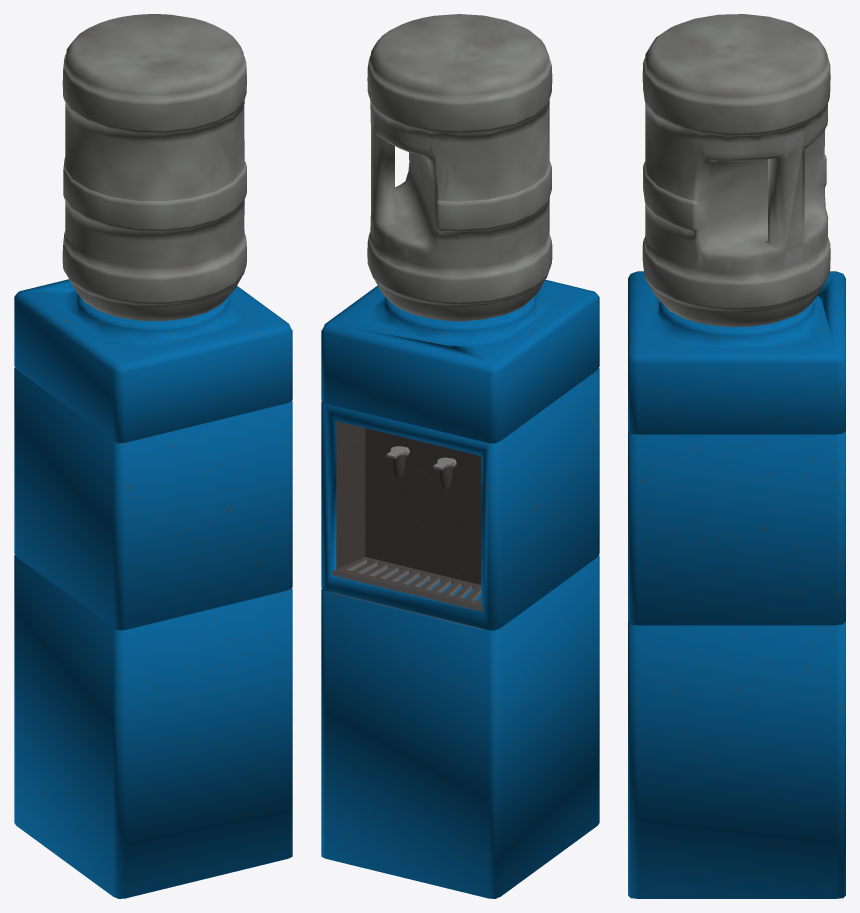
Rendered from WaterCan.fbx.
3 views of the same model, side by side, from view 1: azimuth 30°, elevation 25°; view 2: azimuth 150°, elevation 25°; view 3: azimuth 270°, elevation 25° (orthographic).
Visible parts, largest first — view 1: Can; view 2: Can; view 3: Can.
Boxes of the visible parts, x1=… form: Can: x1=14, y1=14, x2=292, y2=898; Can: x1=321, y1=14, x2=599, y2=898; Can: x1=628, y1=14, x2=845, y2=898.
Size of the model in its own units: 22.4 by 95.47 by 23.34.
